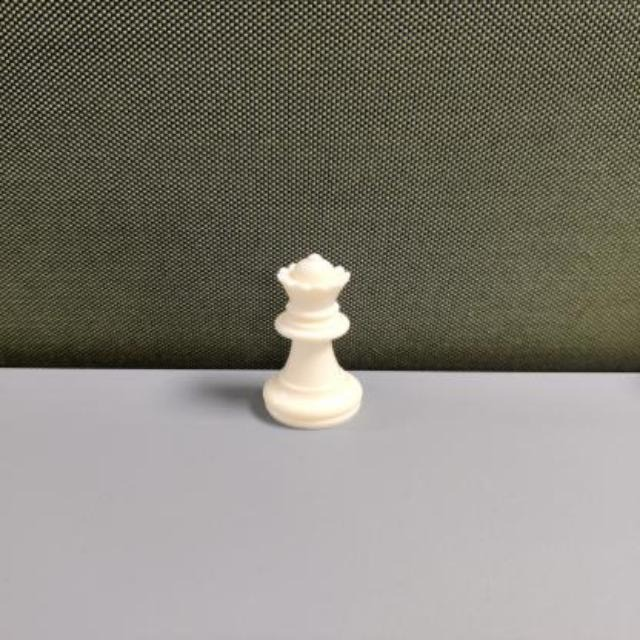white-queen: (261, 249, 368, 429)
